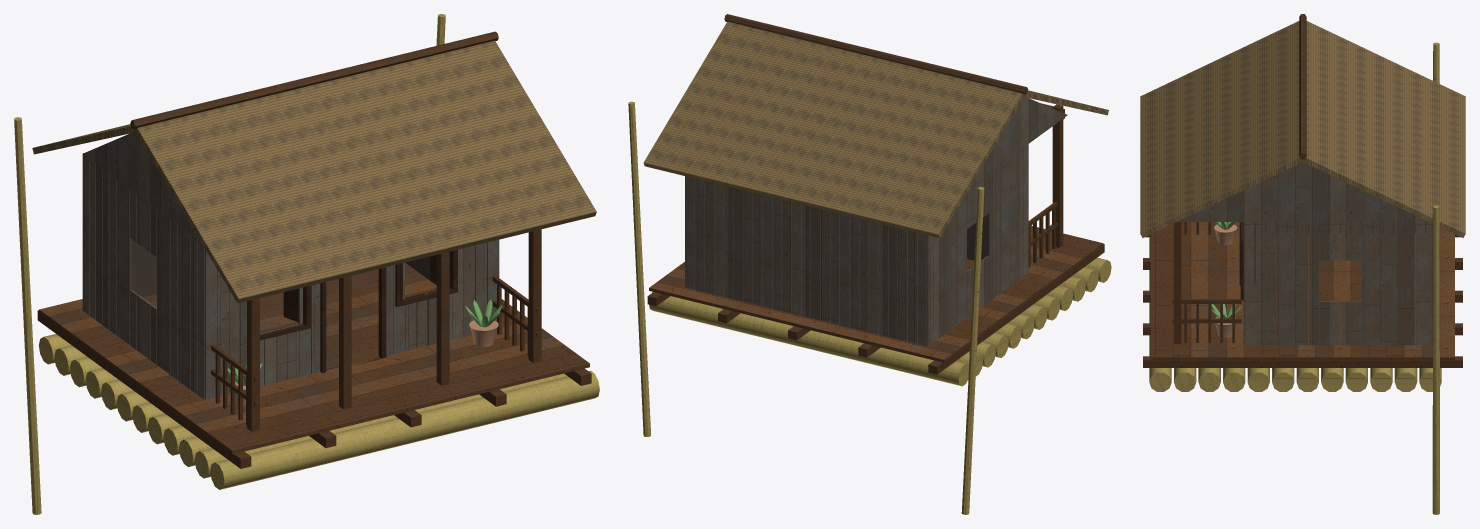
Rendered from rakit_b.glb.
The picture shows the model from 3 angles, left to right: view 1: azimuth 30°, elevation 25°; view 2: azimuth 150°, elevation 25°; view 3: azimuth 270°, elevation 25°; orthographic projection. The views are drawn at different scales.
Parts seen in each view (by area): view 1: rakit_b_atap_nipah, rakit_b_kayu_lapuk, rakit_b_kayu_papan, rakit_b_bambu, rakit_b_kayu_balok, rakit_b_kayu_tua, rakit_b_ruang_gelap; view 2: rakit_b_atap_nipah, rakit_b_kayu_lapuk, rakit_b_bambu, rakit_b_kayu_papan, rakit_b_kayu_balok, rakit_b_ruang_gelap; view 3: rakit_b_atap_nipah, rakit_b_kayu_lapuk, rakit_b_kayu_papan, rakit_b_bambu, rakit_b_kayu_balok, rakit_b_tanah_liat, rakit_b_kayu_tua.
Boxes of the visible parts, box(x1,y1,x2,y2) form: rakit_b_atap_nipah: box(32, 40, 596, 303); rakit_b_kayu_lapuk: box(82, 132, 499, 399); rakit_b_kayu_papan: box(39, 262, 589, 454); rakit_b_bambu: box(14, 14, 599, 514); rakit_b_kayu_balok: box(37, 31, 591, 468); rakit_b_kayu_tua: box(260, 249, 457, 373); rakit_b_ruang_gelap: box(131, 239, 436, 367); rakit_b_atap_nipah: box(643, 21, 1108, 238); rakit_b_kayu_lapuk: box(685, 97, 1067, 346); rakit_b_bambu: box(628, 101, 1111, 514); rakit_b_kayu_papan: box(649, 225, 1103, 362); rakit_b_kayu_balok: box(647, 14, 1104, 374); rakit_b_ruang_gelap: box(967, 214, 988, 260); rakit_b_atap_nipah: box(1140, 21, 1465, 237); rakit_b_kayu_lapuk: box(1177, 162, 1432, 345); rakit_b_kayu_papan: box(1151, 222, 1454, 359); rakit_b_bambu: box(1149, 42, 1441, 514); rakit_b_kayu_balok: box(1143, 14, 1462, 367); rakit_b_tanah_liat: box(1214, 223, 1237, 337); rakit_b_kayu_tua: box(1239, 222, 1255, 300).
Size of the model in its own units: 7.34 by 7.35 by 6.1.
9 materials, 6 textured.
